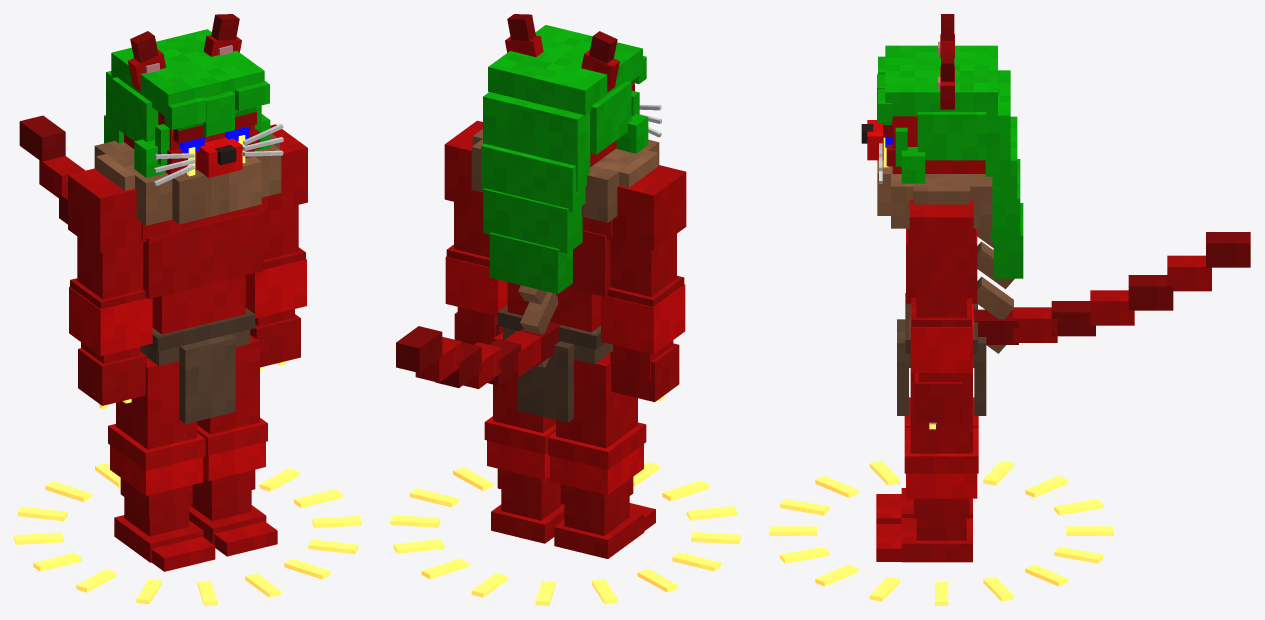
File: beastfolk_s0_evo3.glb
3 renders of one model, left to right at view 1: azimuth 30°, elevation 25°; view 2: azimuth 150°, elevation 25°; view 3: azimuth 270°, elevation 25°, orthographic. The views are drawn at different scales.
Parts seen in each view (by area): view 1: Torso, Head, ArmR, LegR, LegL, ArmL, Root; view 2: Head, Torso, ArmR, LegR, LegL, ArmL, Root; view 3: Head, Torso, ArmL, LegL, Root, LegR.
Part boxes in pixels (bbox=[...]): Torso: bbox=[19, 115, 281, 423]; Head: bbox=[104, 14, 283, 186]; ArmR: bbox=[68, 168, 152, 409]; LegR: bbox=[108, 357, 215, 571]; LegL: bbox=[189, 335, 277, 556]; ArmL: bbox=[245, 124, 307, 370]; Root: bbox=[14, 463, 361, 605]; Head: bbox=[481, 14, 661, 293]; Torso: bbox=[396, 129, 659, 422]; ArmR: bbox=[601, 165, 686, 402]; LegR: bbox=[548, 353, 655, 558]; LegL: bbox=[484, 333, 564, 543]; ArmL: bbox=[444, 120, 507, 344]; Root: bbox=[390, 462, 740, 605]; Head: bbox=[861, 14, 1023, 278]; Torso: bbox=[877, 160, 1250, 415]; ArmL: bbox=[909, 199, 973, 429]; LegL: bbox=[876, 373, 978, 562]; Root: bbox=[769, 461, 1113, 605]; LegR: bbox=[876, 397, 978, 523].
Size of the model in its own units: 1.16 by 1.86 by 1.62.
33 materials, 33 textured.
